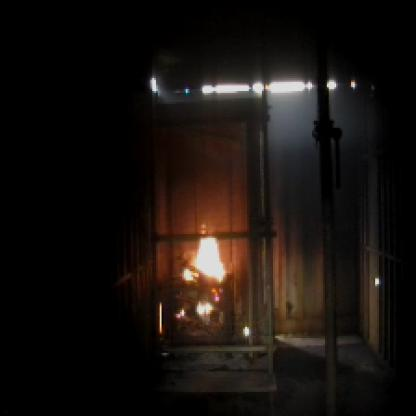Fire: (176, 221, 234, 319)
